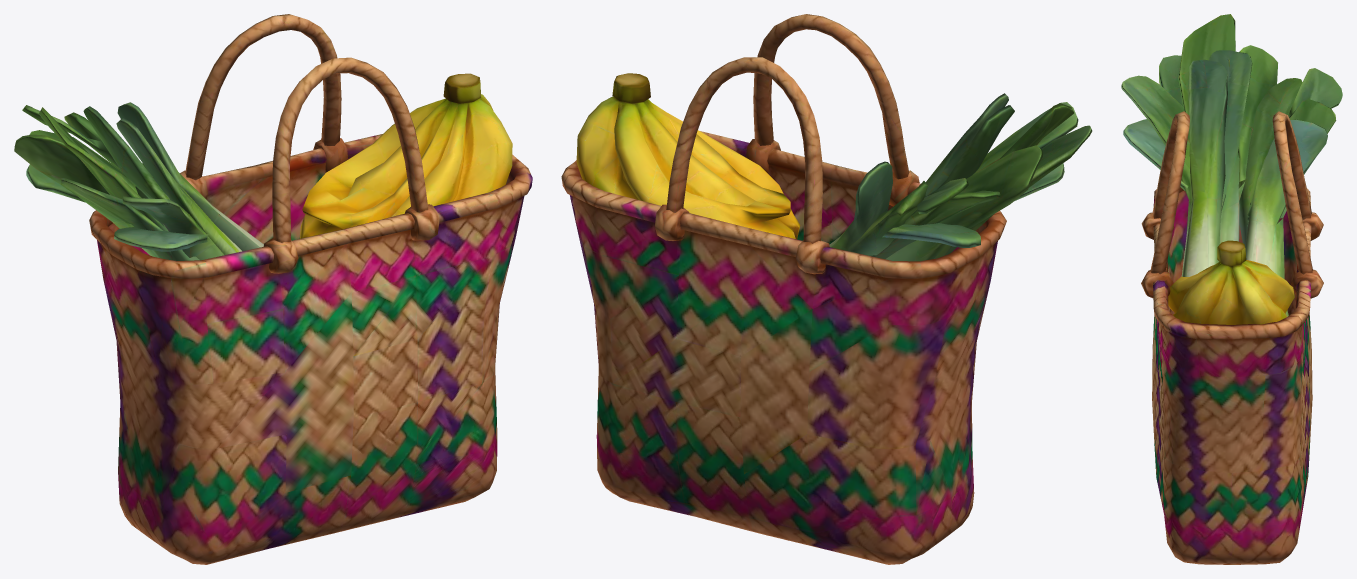
File: bayong.glb
3 renders of one model, left to right at view 1: azimuth 30°, elevation 25°; view 2: azimuth 150°, elevation 25°; view 3: azimuth 270°, elevation 25°, orthographic. The views are drawn at different scales.
Visible parts, largest first — view 1: geometry_0; view 2: geometry_0; view 3: geometry_0.
Boxes of the visible parts, bbox=[...] form: geometry_0: bbox=[14, 14, 532, 564]; geometry_0: bbox=[561, 14, 1092, 564]; geometry_0: bbox=[1121, 14, 1342, 564].
Bounding box in the file's own units: 1 × 0.9858 × 0.4992.
Materials: 1 (1 with a texture image).
